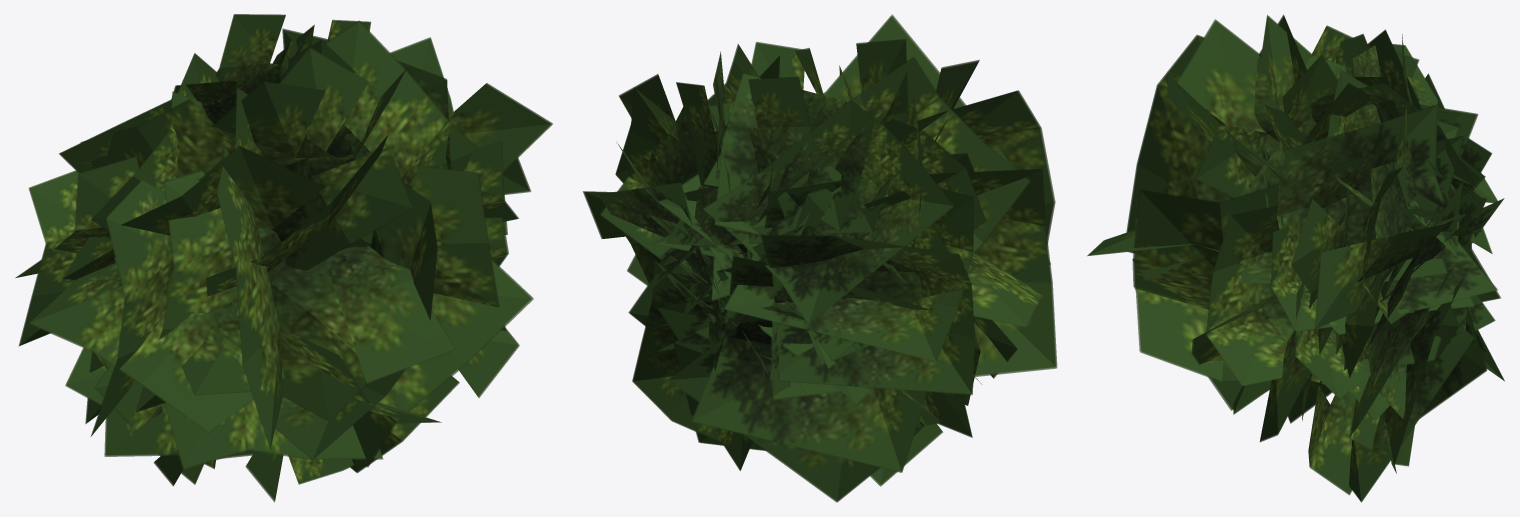
Rendered from wm_gmdgm503-geode.glb.
The picture shows the model from 3 angles, left to right: view 1: azimuth 30°, elevation 25°; view 2: azimuth 150°, elevation 25°; view 3: azimuth 270°, elevation 25°; orthographic projection. The views are drawn at different scales.
Visible parts, largest first — view 1: Node; view 2: Node; view 3: Node.
Part boxes in pixels (x1=…): Node: x1=15, y1=14, x2=552, y2=502; Node: x1=583, y1=14, x2=1057, y2=502; Node: x1=1087, y1=14, x2=1504, y2=502.
Bounding box in the file's own units: 3.06 × 2.77 × 2.5.
1 material, 1 textured.
